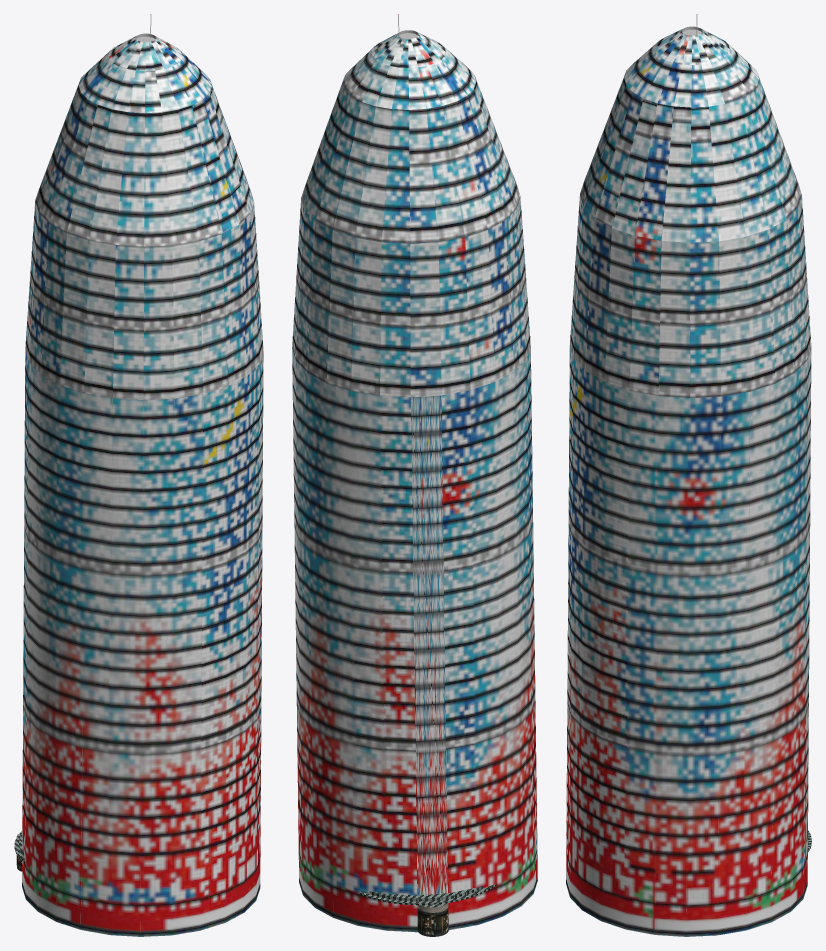
Rendered from ES_CAT_BCN_torre_glories.glb.
The picture shows the model from 3 angles, left to right: view 1: azimuth 30°, elevation 25°; view 2: azimuth 150°, elevation 25°; view 3: azimuth 270°, elevation 25°; orthographic projection.
Parts seen in each view (by area): view 1: agbar (SU 2017); view 2: agbar (SU 2017); view 3: agbar (SU 2017).
Boxes of the visible parts, bbox=[...] form: agbar (SU 2017): bbox=[14, 14, 263, 936]; agbar (SU 2017): bbox=[292, 14, 537, 936]; agbar (SU 2017): bbox=[566, 14, 811, 936].
Bounding box in the file's own units: 36.73 × 144 × 36.48.
24 materials, 22 textured.
